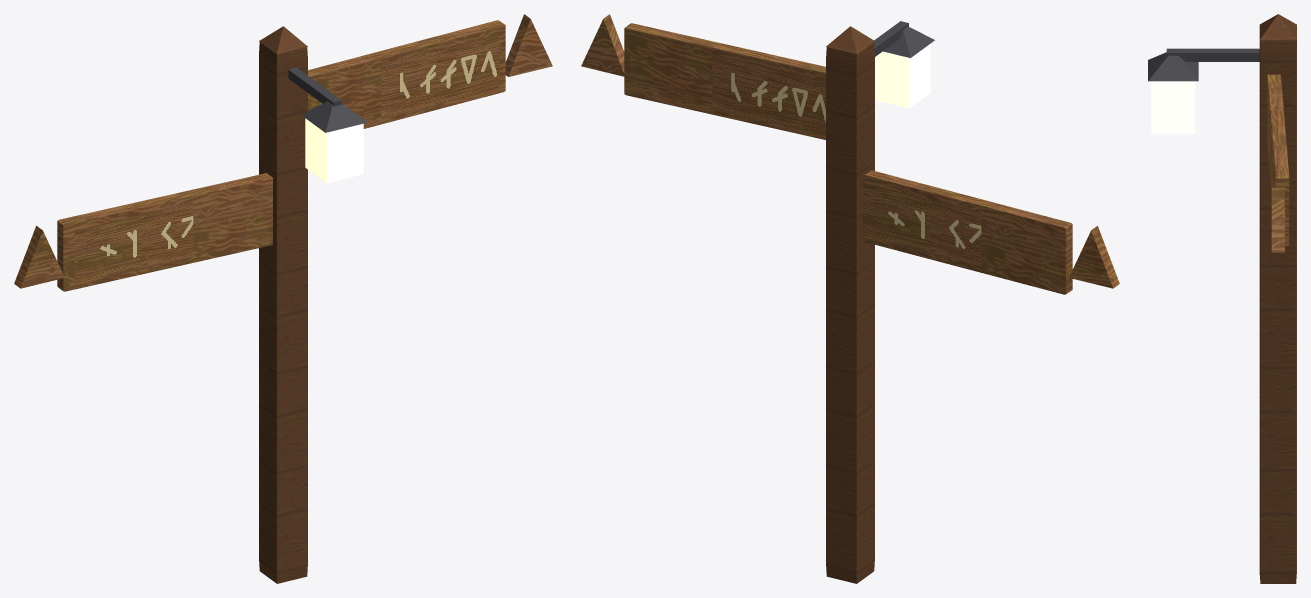
The model's file is signpost.glb.
The picture shows the model from 3 angles, left to right: view 1: azimuth 30°, elevation 25°; view 2: azimuth 150°, elevation 25°; view 3: azimuth 270°, elevation 25°; orthographic projection. The views are drawn at different scales.
Visible parts, largest first — view 1: box; view 2: box; view 3: box.
Boxes of the visible parts, left/top/right/bottom form: box: left=14, top=14, right=552, bottom=583; box: left=581, top=14, right=1119, bottom=583; box: left=1148, top=14, right=1296, bottom=583.
Bounding box in the file's own units: 3.71 × 3.65 × 0.8752.
Materials: 8 (6 with a texture image).
